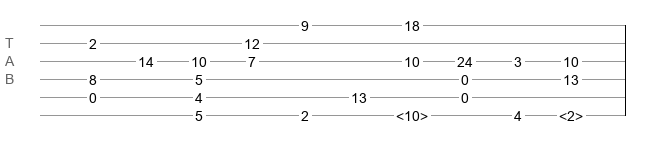0: (89, 90, 97, 100), (461, 90, 469, 100), (461, 72, 469, 82)
10: (191, 54, 207, 64), (404, 54, 420, 64), (563, 54, 579, 64)
12: (244, 36, 260, 46)
13: (351, 90, 367, 100), (563, 72, 579, 82)
14: (138, 54, 154, 64)
18: (404, 18, 420, 28)
2: (89, 36, 97, 46), (301, 108, 309, 118)
24: (457, 54, 473, 64)
3: (514, 54, 522, 64)
4: (195, 90, 203, 100), (514, 108, 522, 118)
5: (195, 72, 203, 82), (195, 108, 203, 118)
7: (248, 54, 256, 64)
8: (89, 72, 97, 82)
9: (301, 18, 309, 28)
harmonic: (396, 108, 428, 118), (559, 108, 583, 118)
